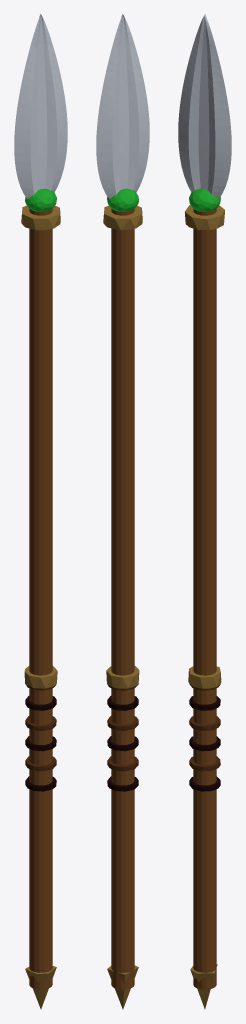
Rendered from spear_0.glb.
3 views of the same model, side by side, from view 1: azimuth 30°, elevation 25°; view 2: azimuth 210°, elevation 25°; view 3: azimuth 330°, elevation 25° (orthographic).
Visible parts, largest first — view 1: part_01, part_11, part_09, part_12, part_10, part_08, part_03, part_02, part_05, part_06, part_04; view 2: part_01, part_11, part_09, part_12, part_10, part_08, part_02, part_03, part_06, part_04, part_05; view 3: part_01, part_11, part_09, part_12, part_10, part_08, part_06, part_02, part_03, part_05, part_04.
Part boxes in pixels (x1=…): part_01: x1=29, y1=208, x2=52, y2=989; part_11: x1=14, y1=14, x2=67, y2=199; part_09: x1=21, y1=205, x2=60, y2=230; part_12: x1=25, y1=188, x2=56, y2=212; part_10: x1=24, y1=666, x2=57, y2=688; part_08: x1=25, y1=966, x2=56, y2=1009; part_03: x1=25, y1=756, x2=56, y2=771; part_02: x1=25, y1=776, x2=56, y2=791; part_05: x1=25, y1=716, x2=56, y2=730; part_06: x1=25, y1=696, x2=56, y2=710; part_04: x1=25, y1=736, x2=56, y2=751; part_01: x1=111, y1=209, x2=134, y2=989; part_11: x1=96, y1=14, x2=149, y2=199; part_09: x1=103, y1=205, x2=142, y2=230; part_12: x1=107, y1=188, x2=138, y2=211; part_10: x1=106, y1=666, x2=139, y2=688; part_08: x1=107, y1=965, x2=138, y2=1009; part_02: x1=107, y1=776, x2=138, y2=791; part_03: x1=107, y1=756, x2=138, y2=771; part_06: x1=107, y1=696, x2=138, y2=710; part_04: x1=107, y1=736, x2=138, y2=751; part_05: x1=107, y1=716, x2=138, y2=730; part_01: x1=193, y1=209, x2=216, y2=989; part_11: x1=178, y1=14, x2=231, y2=199; part_09: x1=185, y1=205, x2=224, y2=230; part_12: x1=189, y1=188, x2=220, y2=211; part_10: x1=188, y1=666, x2=221, y2=688; part_08: x1=190, y1=964, x2=217, y2=1009; part_06: x1=189, y1=696, x2=220, y2=710; part_02: x1=189, y1=776, x2=220, y2=791; part_03: x1=189, y1=756, x2=220, y2=771; part_05: x1=189, y1=716, x2=220, y2=730; part_04: x1=189, y1=736, x2=220, y2=751.
Size of the model in its own units: 0.1 by 1.77 by 0.0648.
